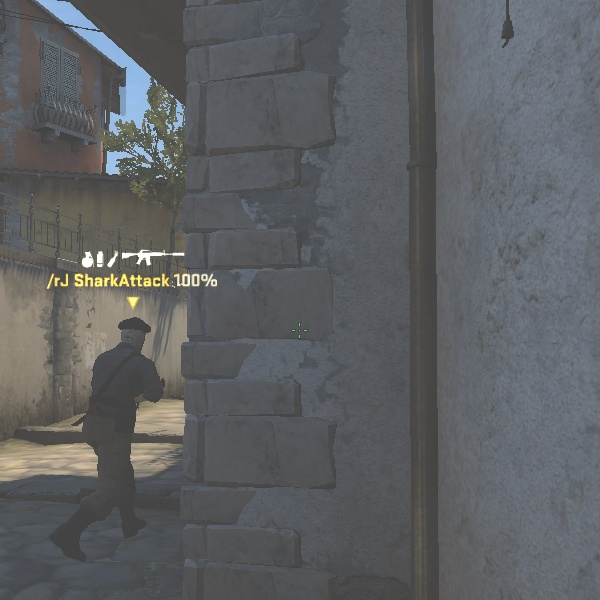t_head: (107, 310, 156, 356)
